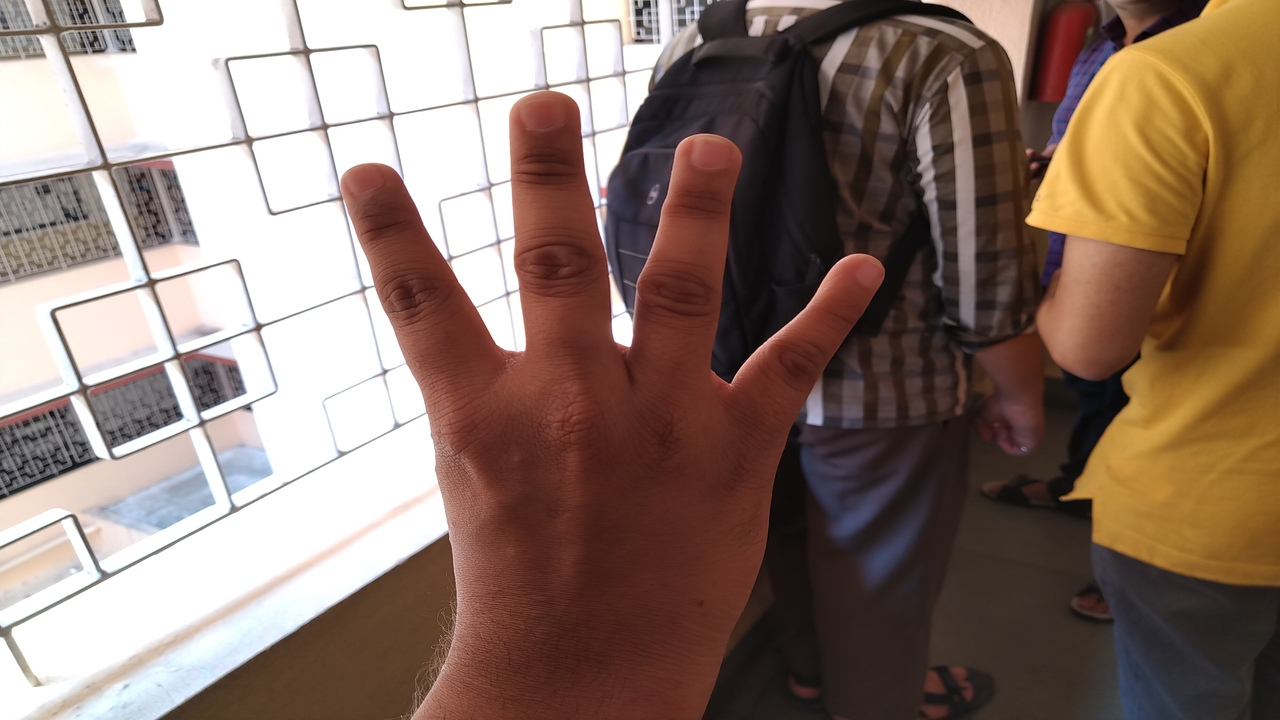fingertip: (496, 88, 578, 154), (668, 128, 732, 192), (824, 246, 884, 302), (336, 156, 398, 210)
